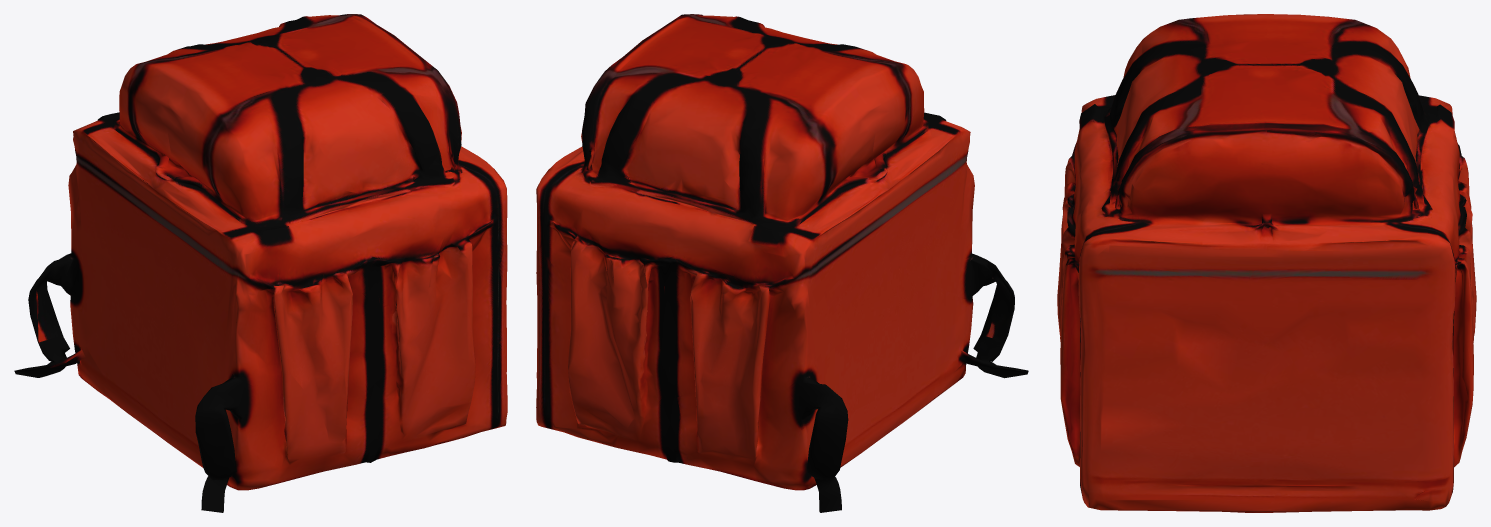
File: bag.fbx
3 views of the same model, side by side, from view 1: azimuth 30°, elevation 25°; view 2: azimuth 150°, elevation 25°; view 3: azimuth 270°, elevation 25° (orthographic). The views are drawn at different scales.
Parts seen in each view (by area): view 1: tripo_node_865ac54c; view 2: tripo_node_865ac54c; view 3: tripo_node_865ac54c.
Boxes of the visible parts, left/top/right/bottom form: tripo_node_865ac54c: left=14, top=14, right=507, bottom=512; tripo_node_865ac54c: left=536, top=14, right=1028, bottom=512; tripo_node_865ac54c: left=1057, top=14, right=1476, bottom=512.
Size of the model in its own units: 96.11 by 98.6 by 100.
1 material, 1 textured.
